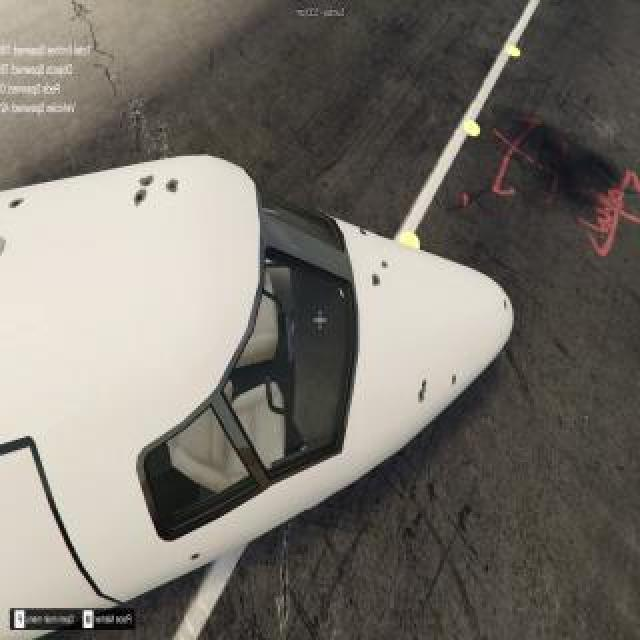crack: (132, 188, 148, 208), (9, 195, 25, 211), (419, 379, 429, 403), (166, 181, 178, 195), (374, 273, 382, 289), (141, 177, 153, 187), (502, 300, 510, 314), (192, 550, 200, 564), (359, 228, 367, 240), (452, 372, 458, 386), (381, 261, 389, 269)
